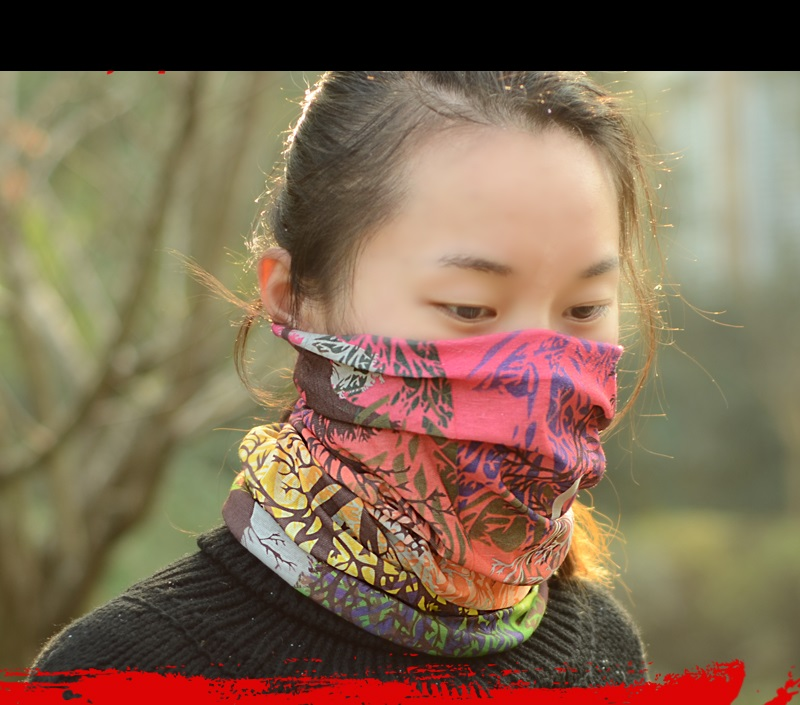face_mask: (328, 138, 628, 514)
